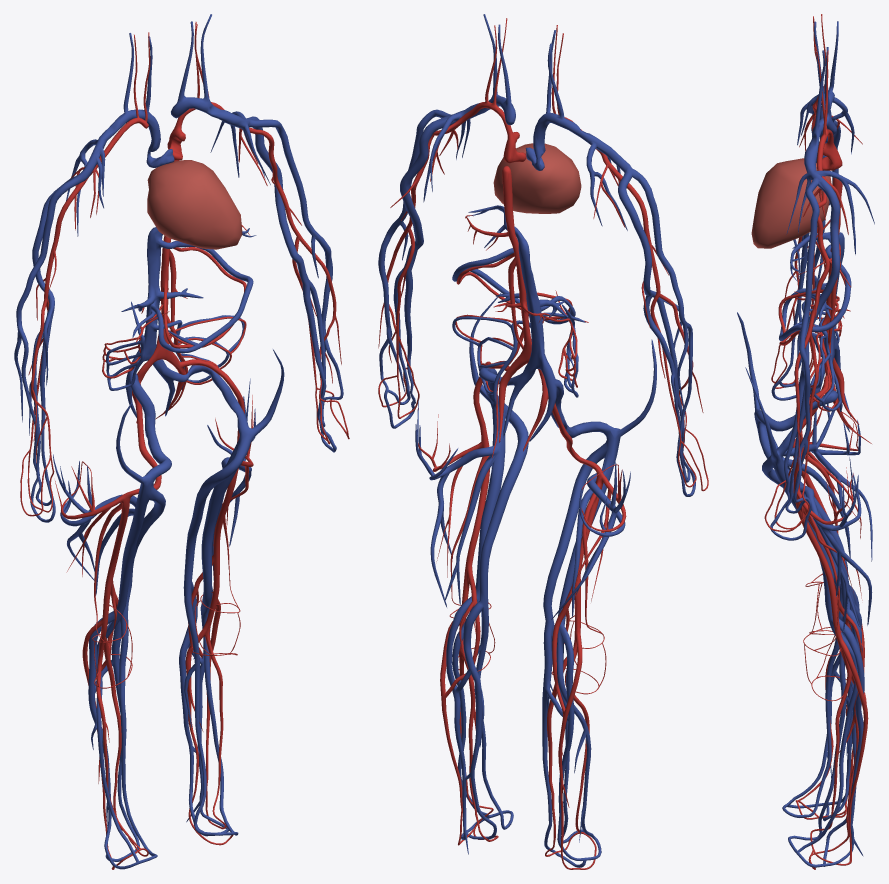
File: pediatric_infant_male.cardiovascular.LOD1.glb
The picture shows the model from 3 angles, left to right: view 1: azimuth 30°, elevation 25°; view 2: azimuth 150°, elevation 25°; view 3: azimuth 270°, elevation 25°; orthographic projection. The views are drawn at different scales.
Parts seen in each view (by area): view 1: PEDIATRIC.INFANT.MALE.CARDIOVASCULAR.BLOOD_IN_LARGE_VEINS, PEDIATRIC.INFANT.MALE.CARDIOVASCULAR.BLOOD_IN_LARGE_ARTERIES, PEDIATRIC.INFANT.MALE.CARDIOVASCULAR.HEART_WALL; view 2: PEDIATRIC.INFANT.MALE.CARDIOVASCULAR.BLOOD_IN_LARGE_VEINS, PEDIATRIC.INFANT.MALE.CARDIOVASCULAR.BLOOD_IN_LARGE_ARTERIES, PEDIATRIC.INFANT.MALE.CARDIOVASCULAR.HEART_WALL; view 3: PEDIATRIC.INFANT.MALE.CARDIOVASCULAR.BLOOD_IN_LARGE_VEINS, PEDIATRIC.INFANT.MALE.CARDIOVASCULAR.BLOOD_IN_LARGE_ARTERIES, PEDIATRIC.INFANT.MALE.CARDIOVASCULAR.HEART_WALL.
Part boxes in pixels (x1,y1,x2,y2): PEDIATRIC.INFANT.MALE.CARDIOVASCULAR.BLOOD_IN_LARGE_VEINS: [14, 14, 343, 869]; PEDIATRIC.INFANT.MALE.CARDIOVASCULAR.BLOOD_IN_LARGE_ARTERIES: [20, 22, 349, 869]; PEDIATRIC.INFANT.MALE.CARDIOVASCULAR.HEART_WALL: [147, 160, 242, 249]; PEDIATRIC.INFANT.MALE.CARDIOVASCULAR.BLOOD_IN_LARGE_VEINS: [378, 14, 695, 867]; PEDIATRIC.INFANT.MALE.CARDIOVASCULAR.BLOOD_IN_LARGE_ARTERIES: [378, 18, 708, 869]; PEDIATRIC.INFANT.MALE.CARDIOVASCULAR.HEART_WALL: [493, 143, 581, 213]; PEDIATRIC.INFANT.MALE.CARDIOVASCULAR.BLOOD_IN_LARGE_VEINS: [737, 21, 874, 867]; PEDIATRIC.INFANT.MALE.CARDIOVASCULAR.BLOOD_IN_LARGE_ARTERIES: [764, 14, 871, 869]; PEDIATRIC.INFANT.MALE.CARDIOVASCULAR.HEART_WALL: [751, 158, 831, 248].
Size of the model in its own units: 0.256 by 0.632 by 0.0966.
